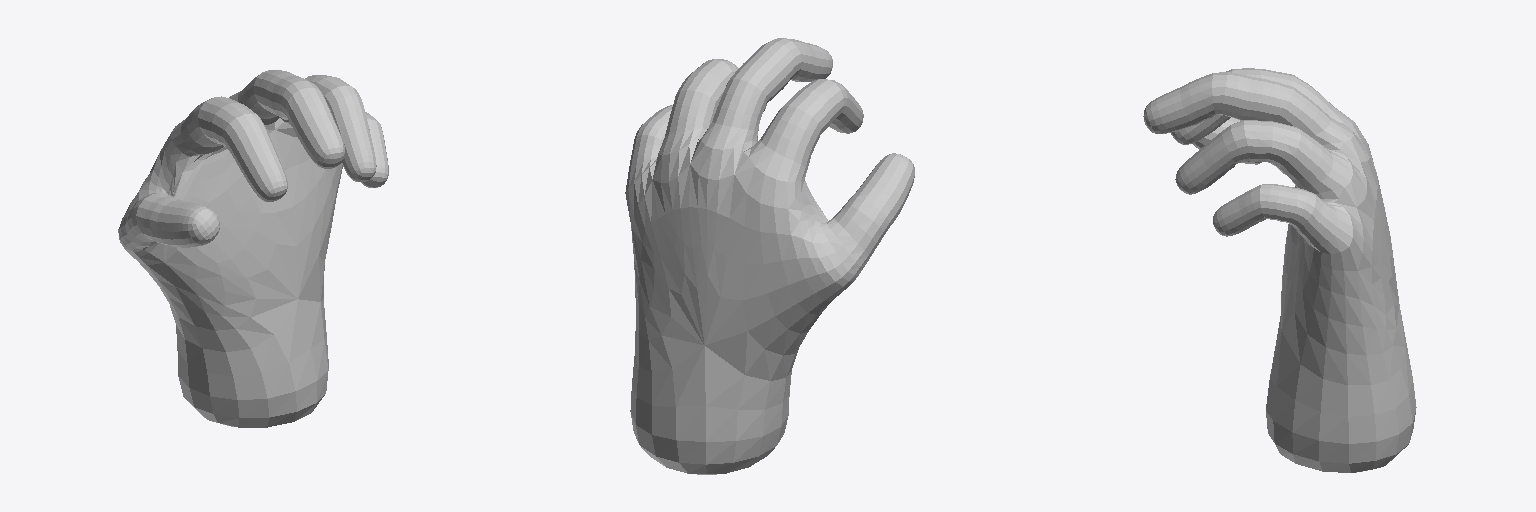
Rendered from handanimatsion37.obj.
3 views of the same model, side by side, from view 1: azimuth 30°, elevation 25°; view 2: azimuth 150°, elevation 25°; view 3: azimuth 270°, elevation 25° (orthographic).
Visible parts, largest first — view 1: Cube; view 2: Cube; view 3: Cube.
Part boxes in pixels (x1,y1,x2,y2): Cube: (118, 70, 388, 427); Cube: (625, 38, 914, 474); Cube: (1143, 68, 1416, 472).
Size of the model in its own units: 3.25 by 4.91 by 3.2.